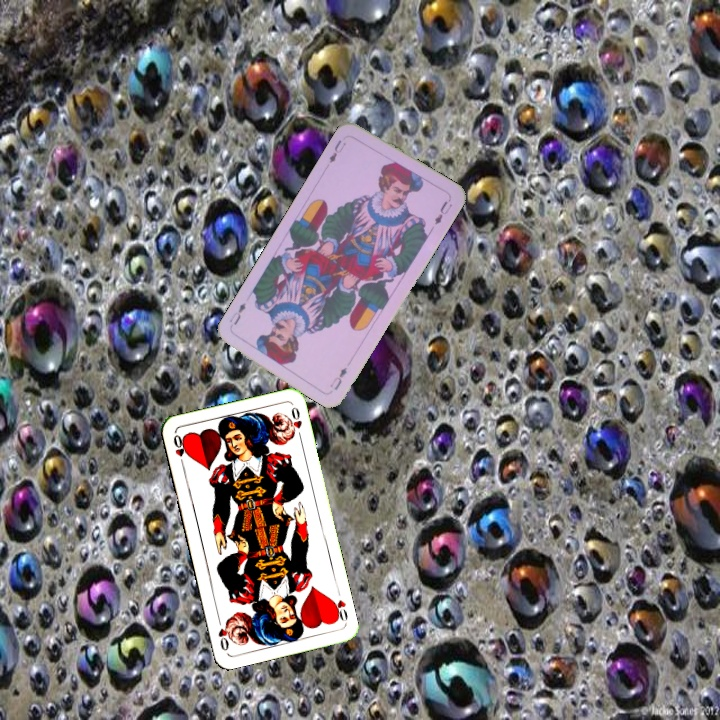EU: (325, 136, 349, 166), (326, 363, 350, 392)
HO: (169, 431, 189, 470), (328, 595, 350, 626)
